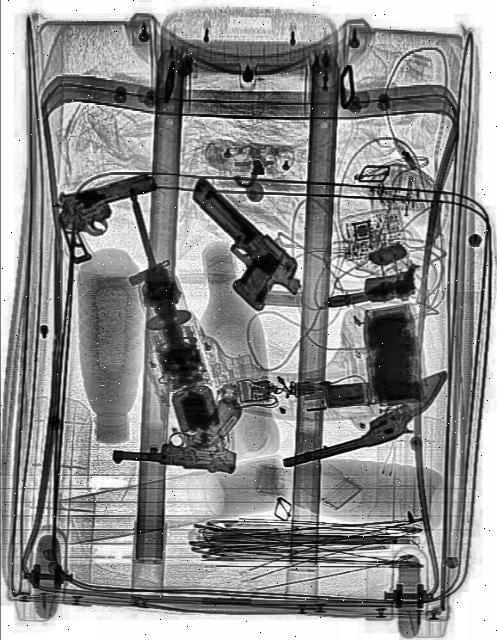Gun: (167, 175, 308, 325), (273, 369, 453, 469), (111, 384, 241, 474), (52, 167, 166, 266), (360, 262, 420, 302)
